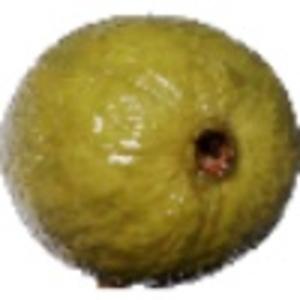goiaba: (4, 12, 296, 276)
